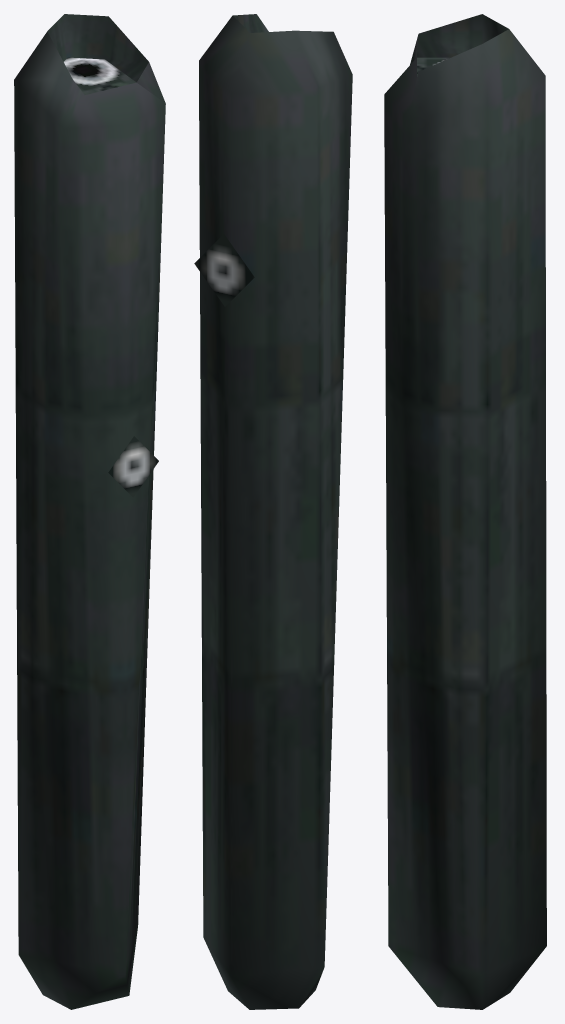
File: wp_mle_2h_sword_lightsaber_sleekblack_l2.fbx
The picture shows the model from 3 angles, left to right: view 1: azimuth 30°, elevation 25°; view 2: azimuth 150°, elevation 25°; view 3: azimuth 270°, elevation 25°; orthographic projection.
Visible parts, largest first — view 1: mesh_node; view 2: mesh_node; view 3: mesh_node.
Part boxes in pixels (x1,y1,x2,y2): mesh_node: (14, 14, 165, 1009); mesh_node: (194, 14, 352, 1009); mesh_node: (384, 14, 546, 1009).
Size of the model in its own units: 0.0294 by 0.2262 by 0.0361.
